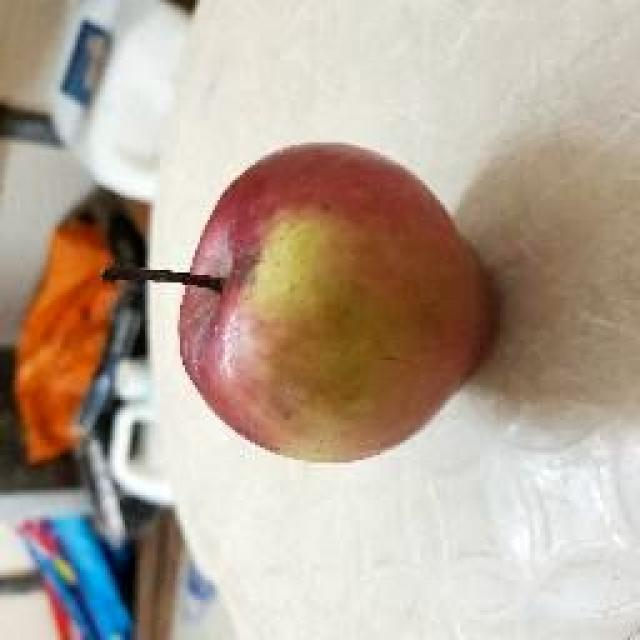Good_Apple: (180, 142, 502, 465)
